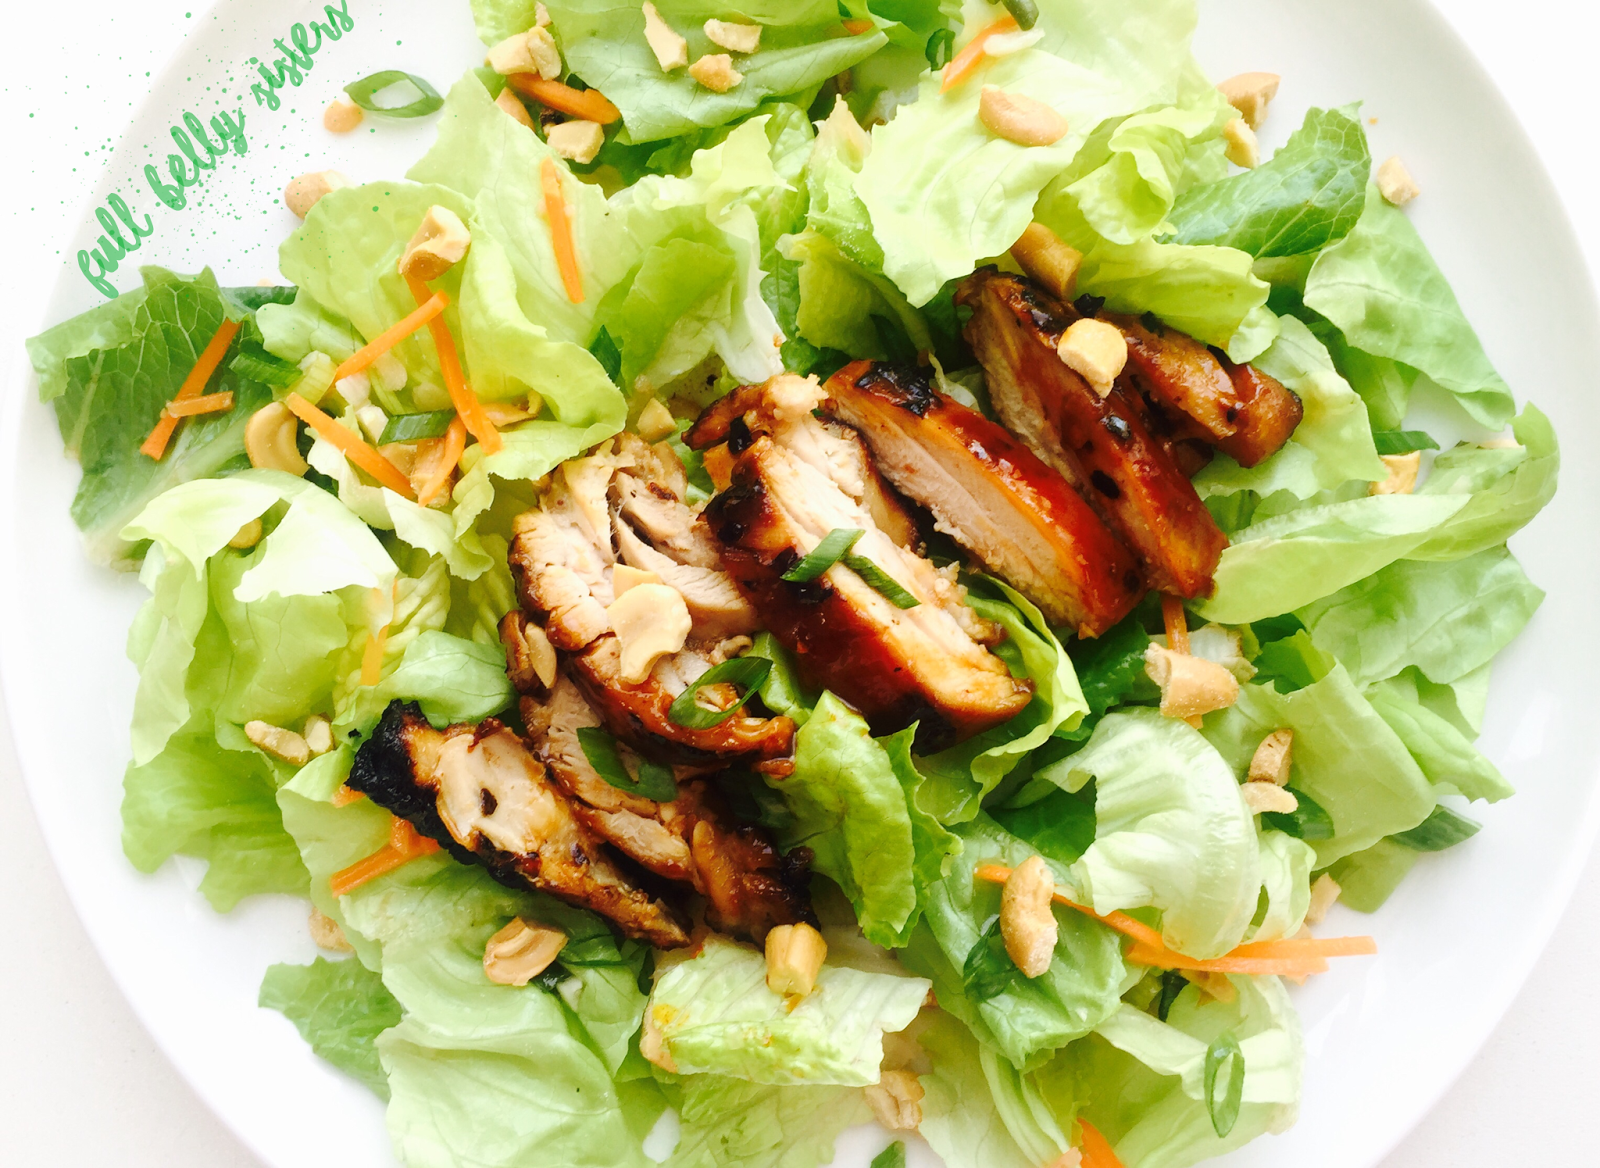chopped lettuce: (58, 34, 1512, 1156)
